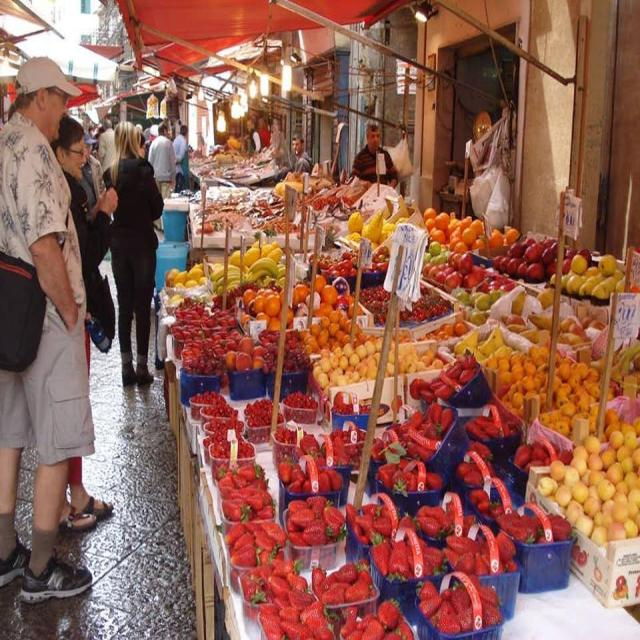body: (0, 53, 97, 610), (41, 111, 119, 534), (101, 118, 156, 390), (2, 98, 208, 162), (348, 117, 399, 189), (146, 120, 176, 200), (264, 117, 288, 205), (96, 116, 120, 173), (171, 124, 189, 195), (290, 132, 314, 177), (246, 114, 262, 160), (256, 116, 272, 153)
